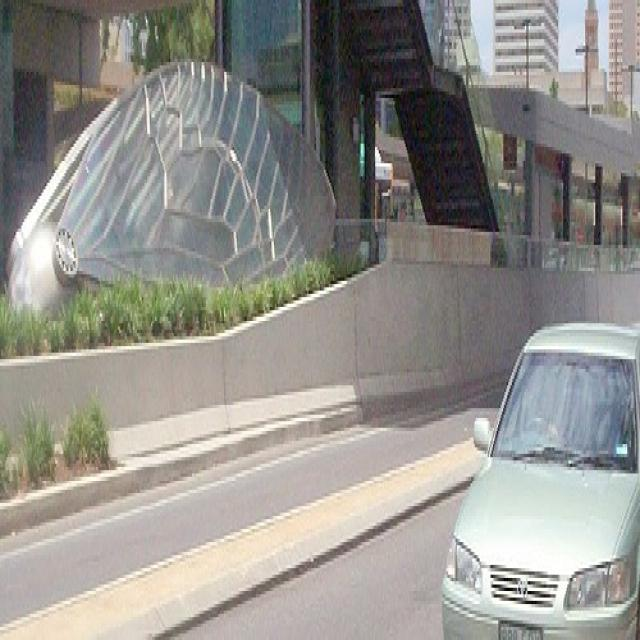car: (438, 310, 638, 637)
